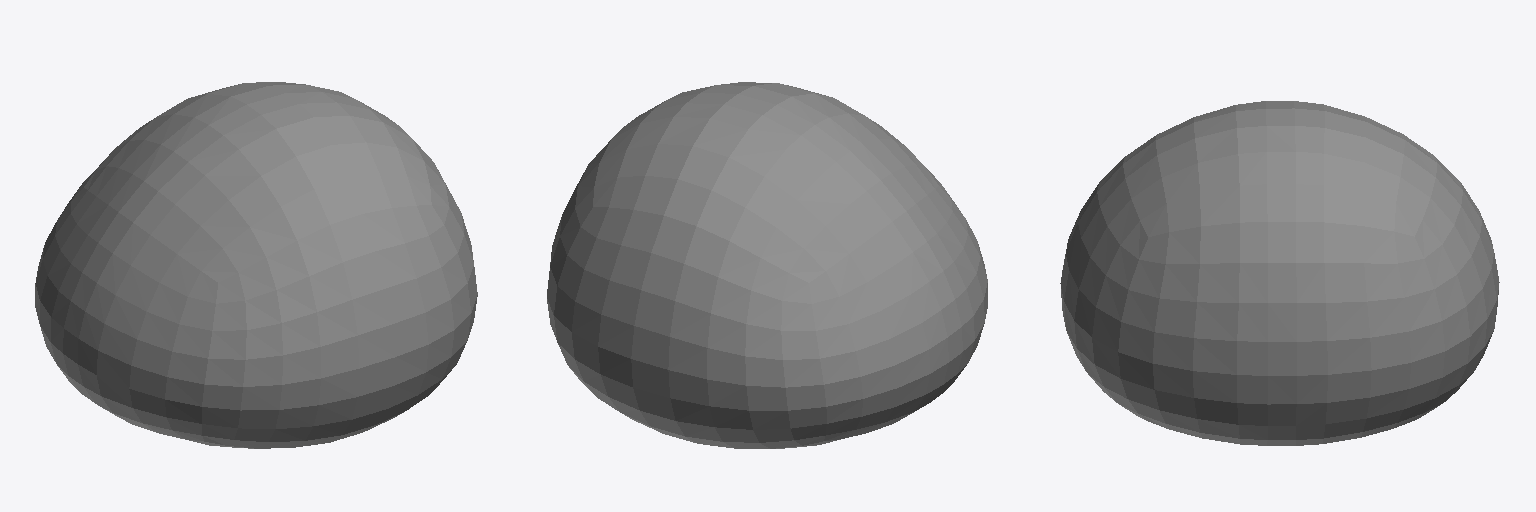
File: BolaSueltaNaranja.obj
3 views of the same model, side by side, from view 1: azimuth 30°, elevation 25°; view 2: azimuth 150°, elevation 25°; view 3: azimuth 270°, elevation 25° (orthographic).
Parts seen in each view (by area): view 1: body003; view 2: body003; view 3: body003.
Part boxes in pixels (x1,y1,x2,y2): body003: (35, 82, 477, 448); body003: (547, 82, 987, 448); body003: (1060, 101, 1499, 445).
Size of the model in its own units: 0.3381 by 0.2561 by 0.3439.